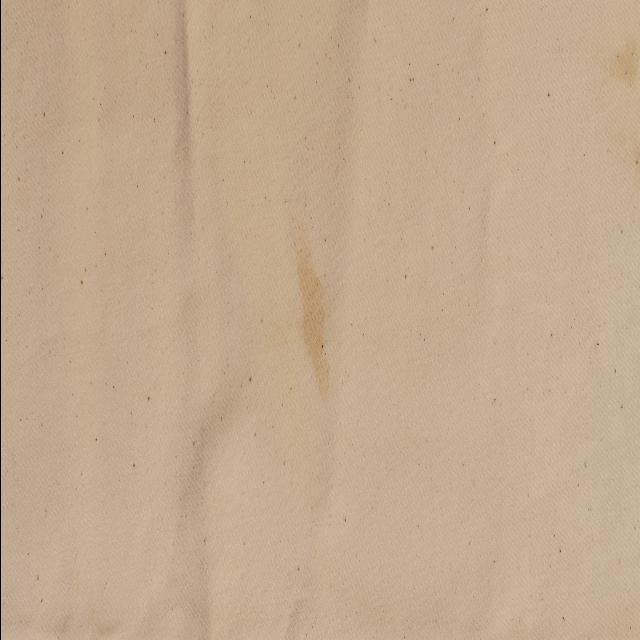taaaches: (276, 188, 341, 396), (599, 11, 640, 130)
